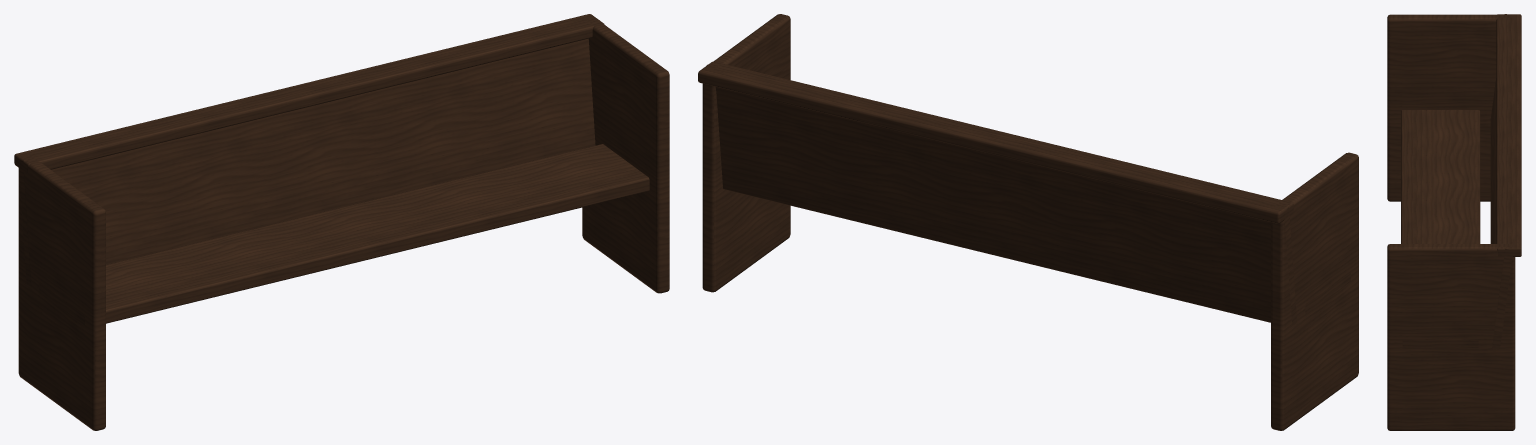
Rendered from pew.glb.
3 views of the same model, side by side, from view 1: azimuth 30°, elevation 25°; view 2: azimuth 150°, elevation 25°; view 3: azimuth 270°, elevation 25° (orthographic). The views are drawn at different scales.
Visible parts, largest first — view 1: pew; view 2: pew; view 3: pew.
Part boxes in pixels (<box>): pew: <box>14,14,669,430</box>; pew: <box>698,14,1358,430</box>; pew: <box>1387,14,1521,430</box>.
Bounding box in the file's own units: 2.6 × 0.9512 × 0.6304.
1 material, 1 textured.
